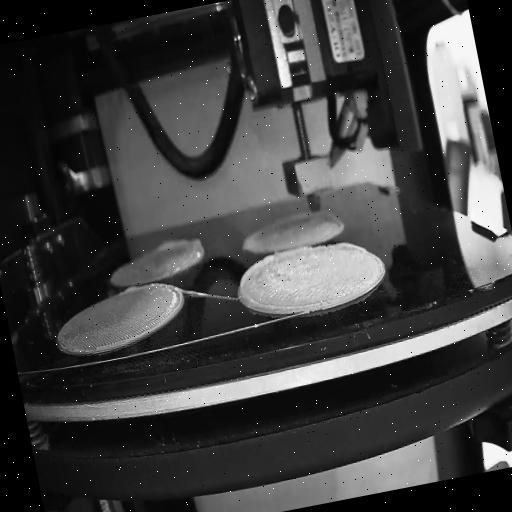over_extrusion: (234, 252, 292, 320), (160, 231, 210, 261), (336, 239, 366, 260), (326, 205, 345, 236), (123, 286, 140, 297)
